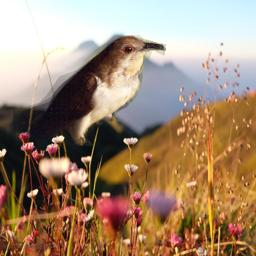Cuckoo: (13, 35, 166, 146)
